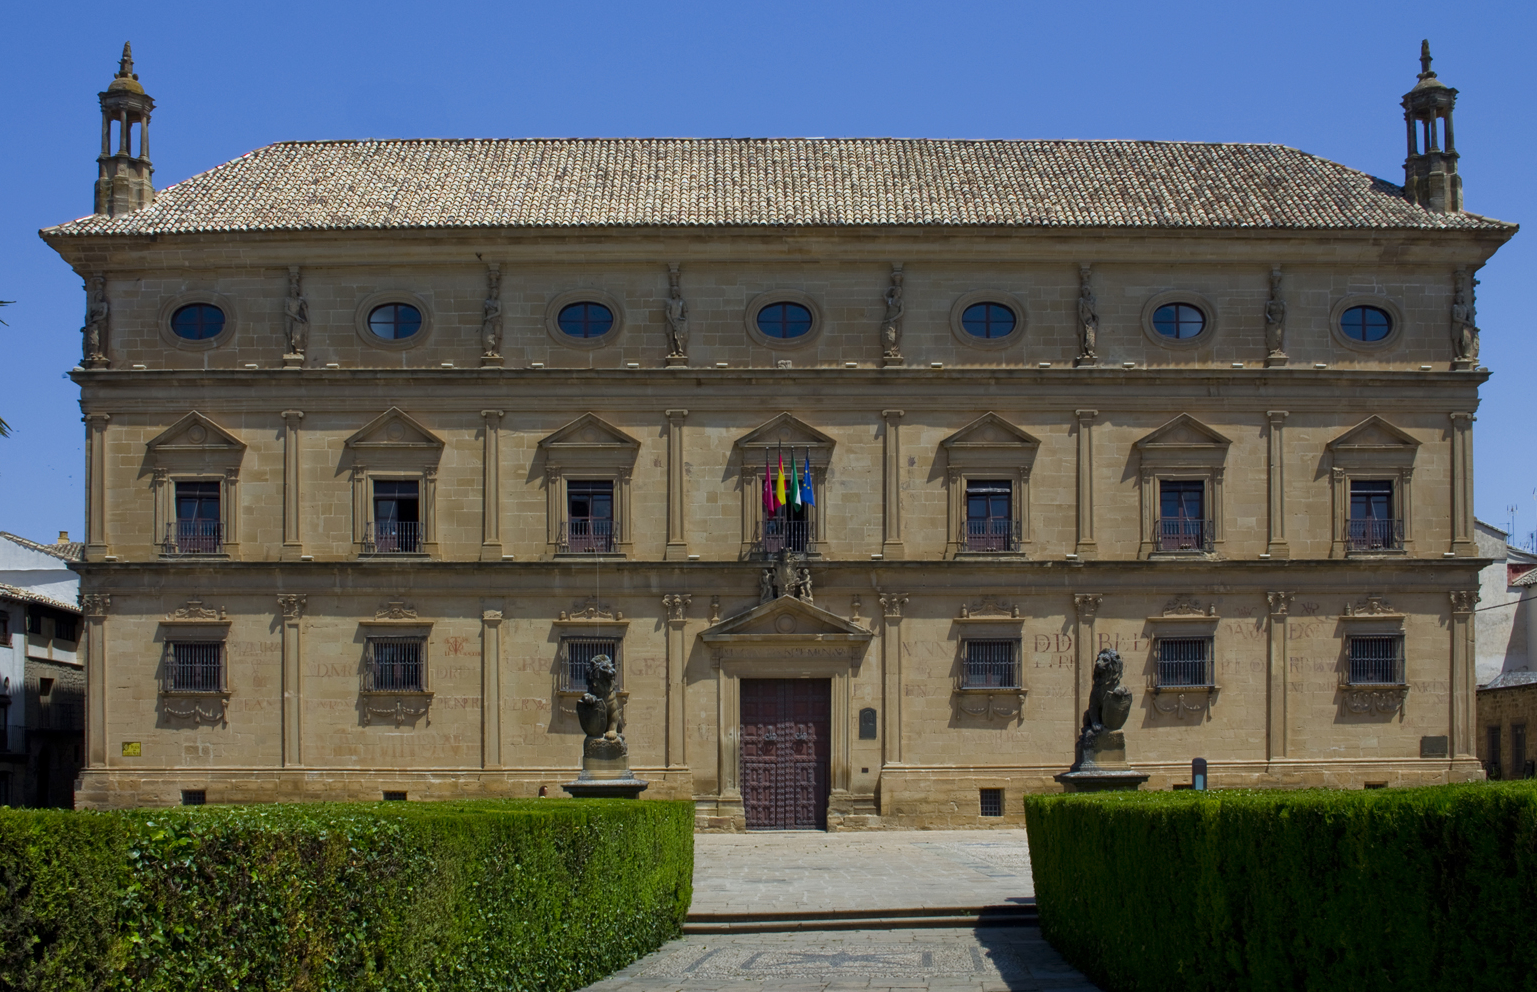fronton: (696, 593, 879, 645), (342, 404, 447, 451), (935, 408, 1043, 452), (147, 408, 251, 453), (730, 409, 840, 451), (537, 409, 643, 451), (1131, 410, 1233, 452), (1322, 412, 1422, 453)
ojo-de-buey: (743, 286, 825, 352), (948, 286, 1028, 352), (1138, 287, 1218, 350), (159, 287, 235, 350), (356, 288, 432, 352), (547, 286, 624, 347), (1328, 291, 1404, 353)
vano-adintelado: (712, 652, 853, 832), (738, 456, 833, 565), (541, 455, 634, 563), (942, 459, 1034, 564), (348, 458, 440, 563), (1136, 459, 1226, 567), (150, 461, 240, 564), (1330, 464, 1417, 562)
